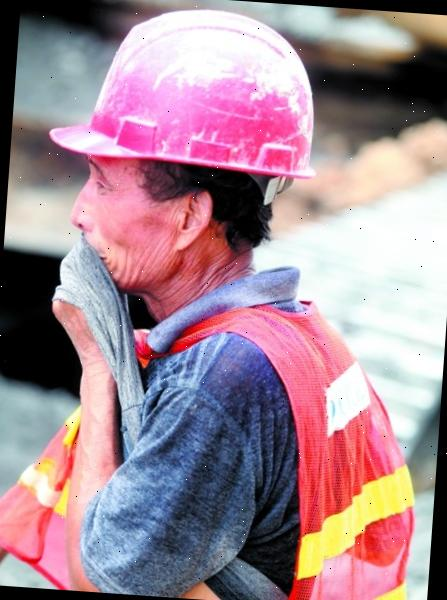helmet: (39, 0, 330, 194)
wear: (15, 281, 425, 600)
